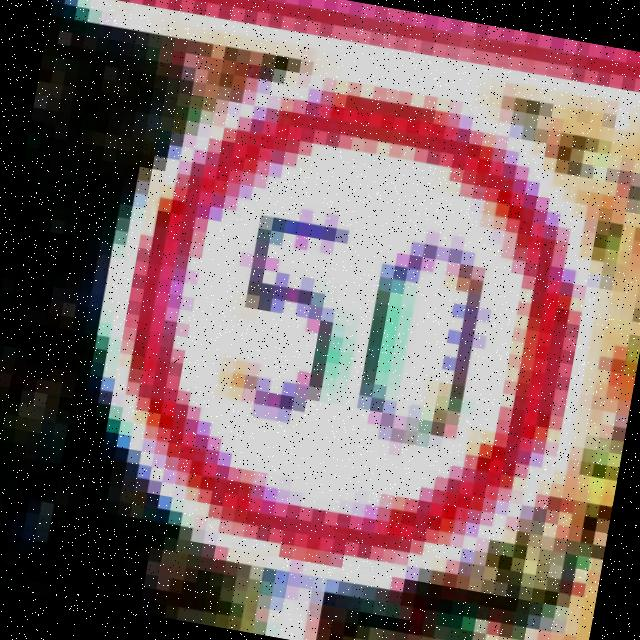Ograniczenie predkosci do 50: (82, 52, 618, 596)
